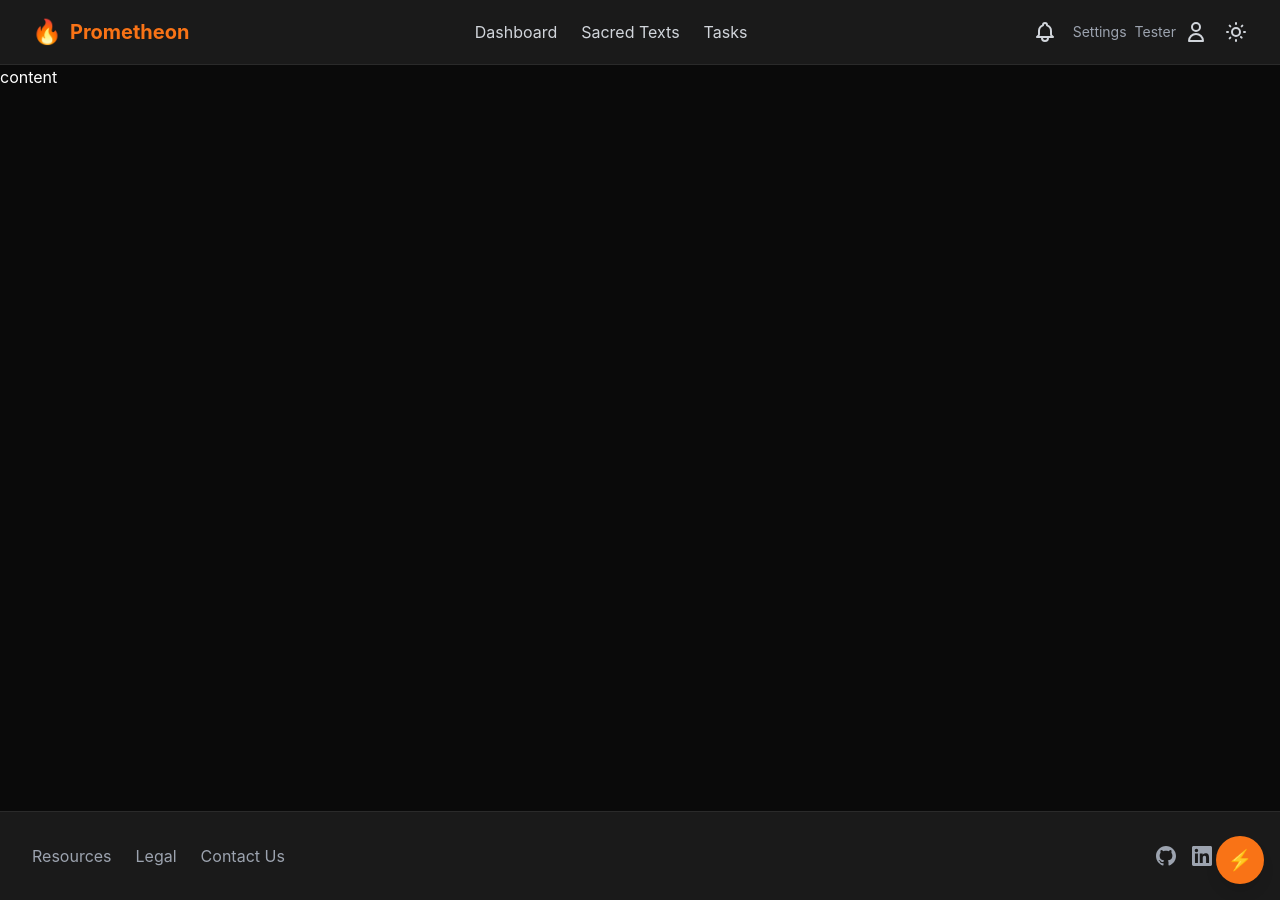
Layout chat launcher › toggles the chat panel open and closed
Click the button named "Open AI study assistant" at [1240, 860], box [1216,836,1264,884]
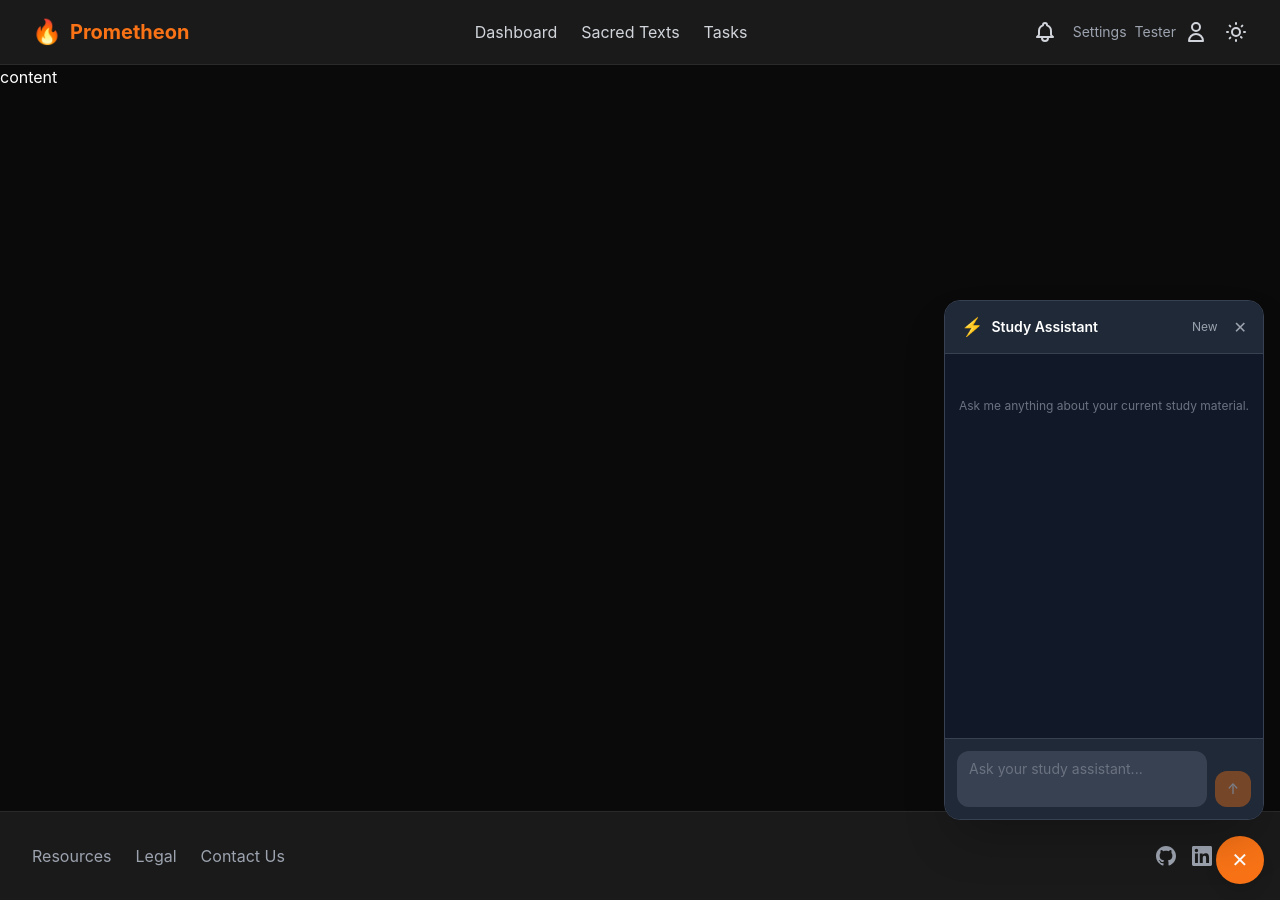
Now the dialog named "AI Study Assistant" is shown, box [944,300,1264,820]
Click the button named "Close AI study assistant" at [1240, 860], box [1216,836,1264,884]
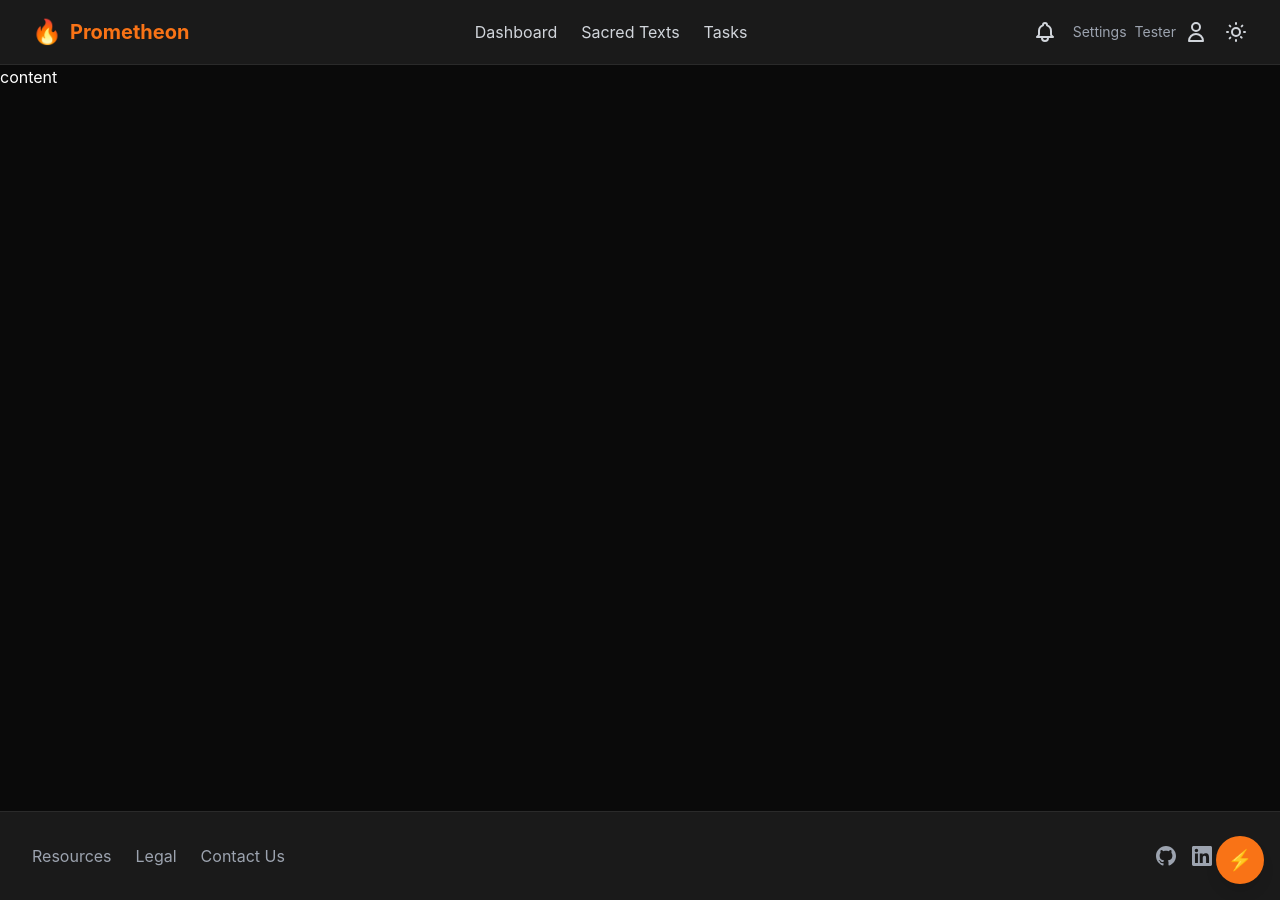
Now the dialog is gone
